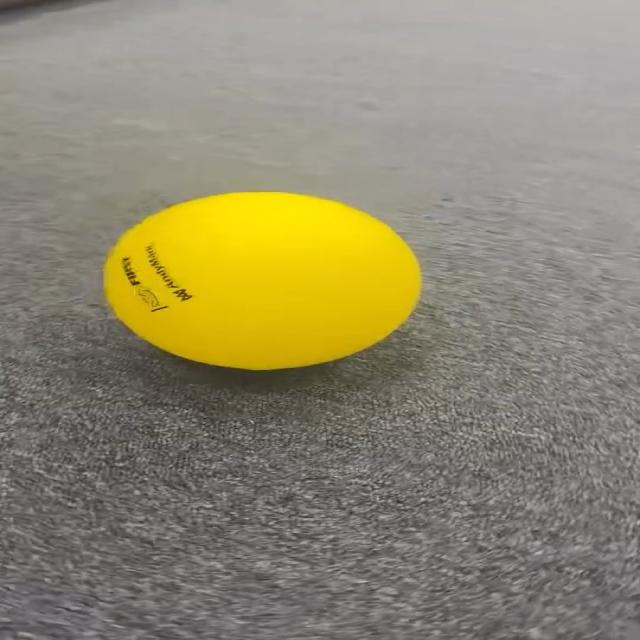Fuels: (104, 192, 416, 366)
